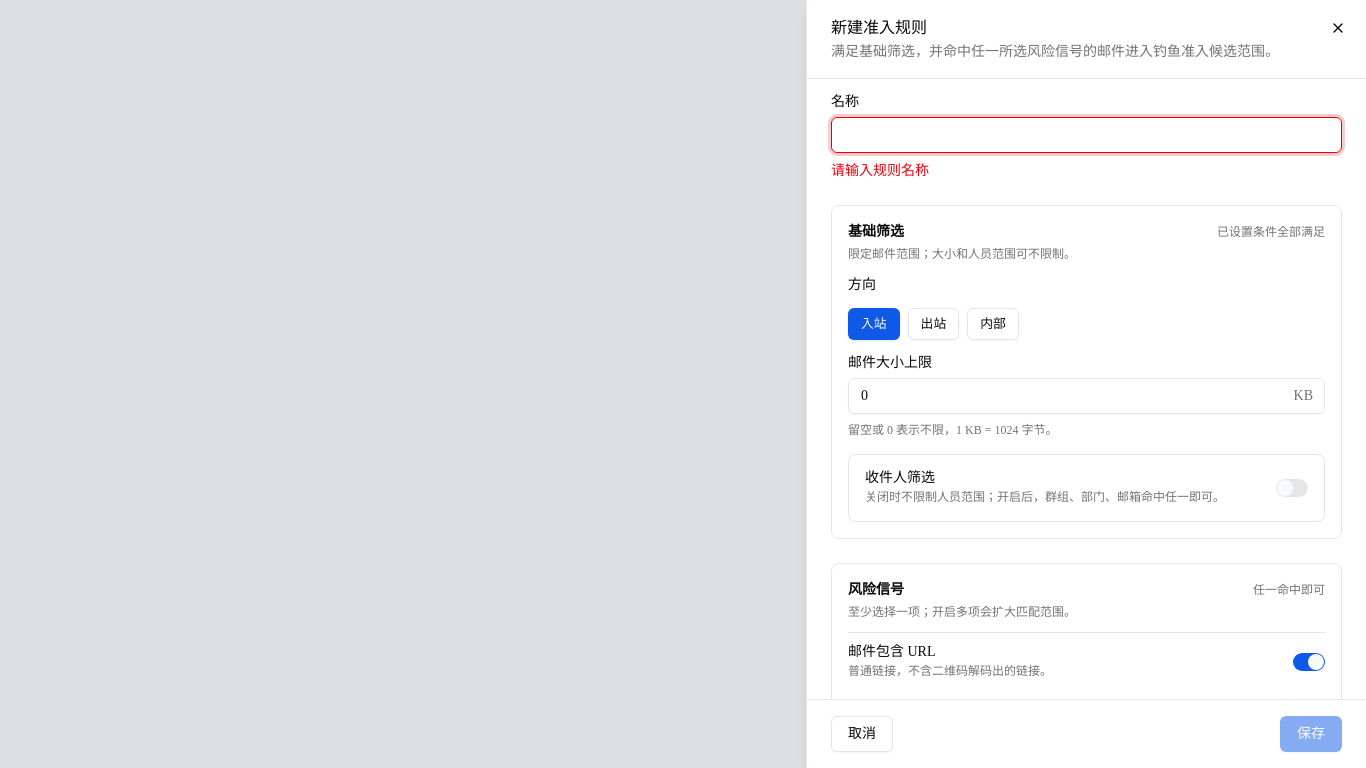
AdmissionRuleSheet directional scopes › switches outbound rules to sender scope while mixed directions expose both sides
This screenshot has width=1366, height=768.
Click the switch with test id "rule-recipient-filter": (1292, 488) [1276,479,1308,497]
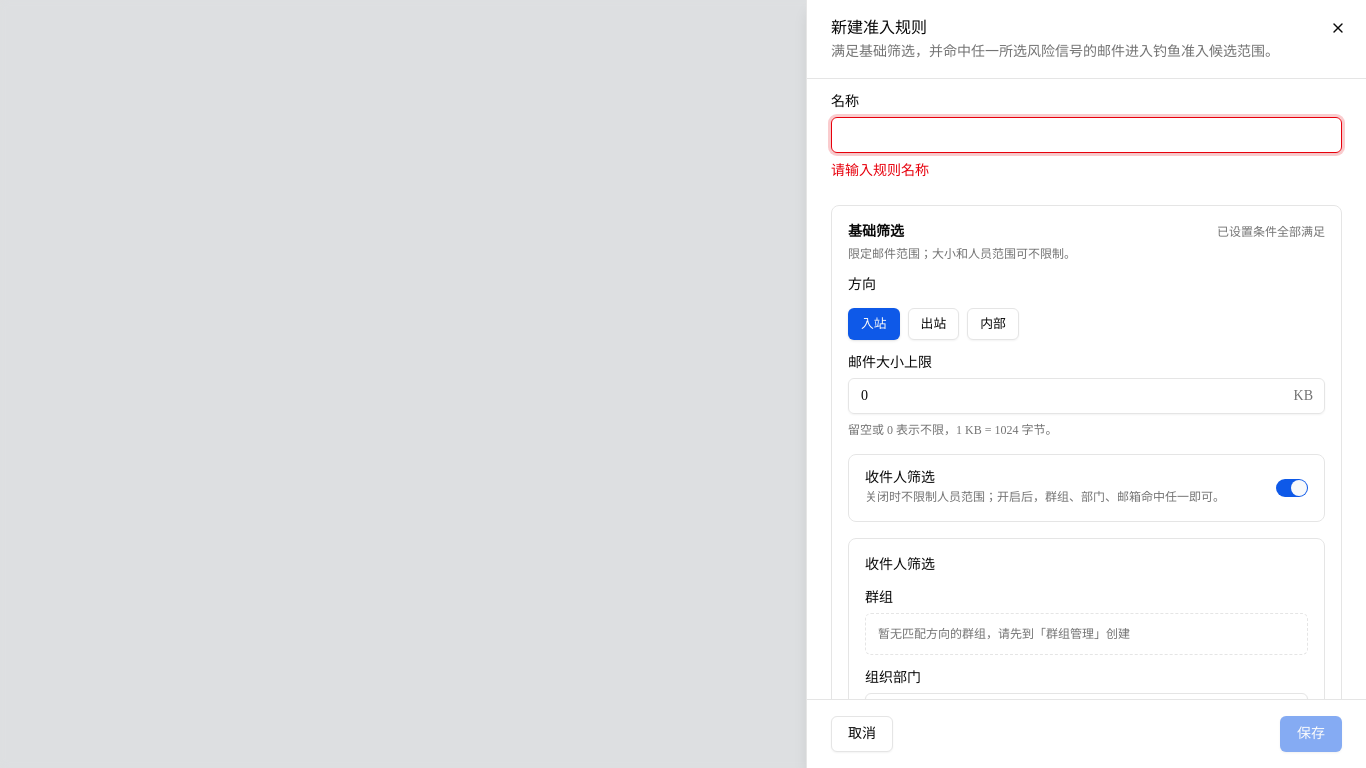
Expected: the element with test id "rule-scope-recipient" is shown, [848,538,1325,699]
Click the button with test id "rule-direction-outbound": (933, 324) [908,308,959,340]
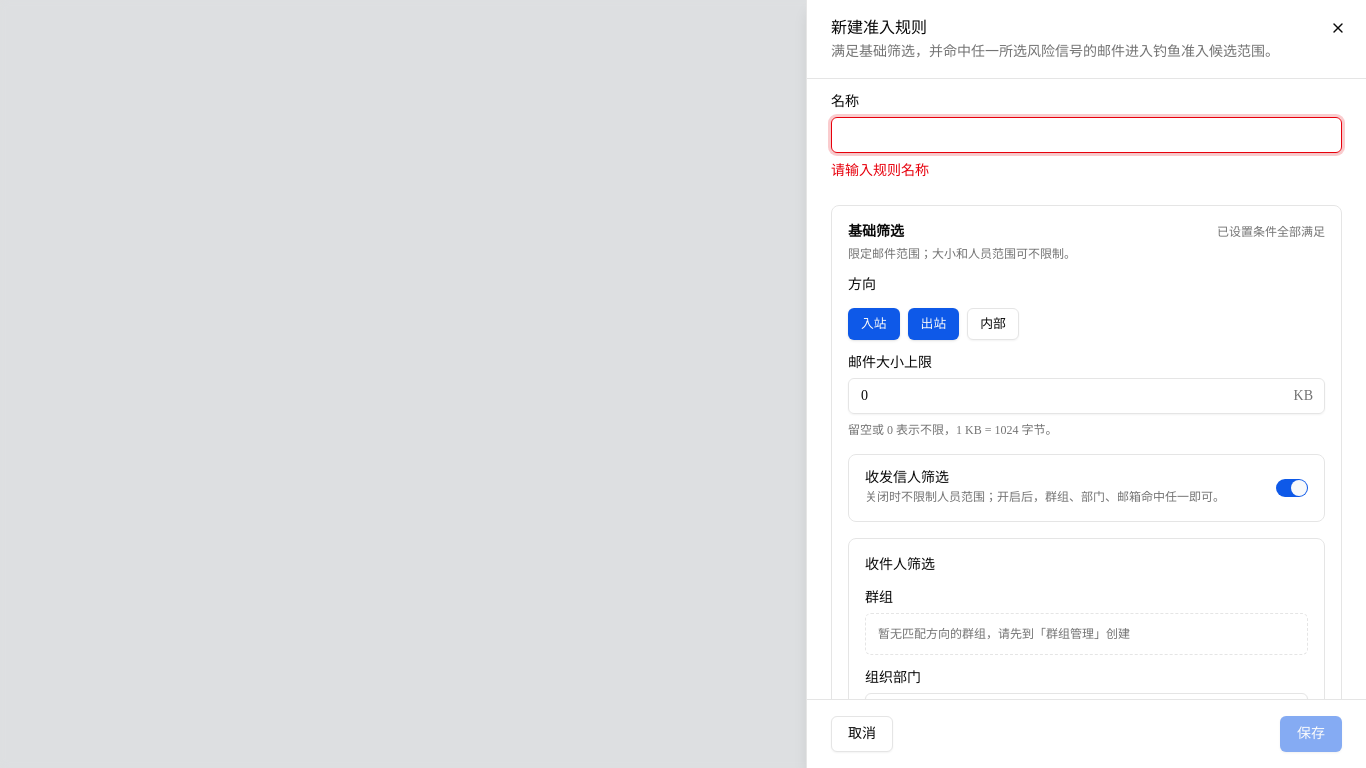
Expected: the element with test id "rule-scope-recipient" is shown, [848,538,1325,699]
Click the button with test id "rule-direction-inbound": (874, 324) [848,308,900,340]
(page scrolled)
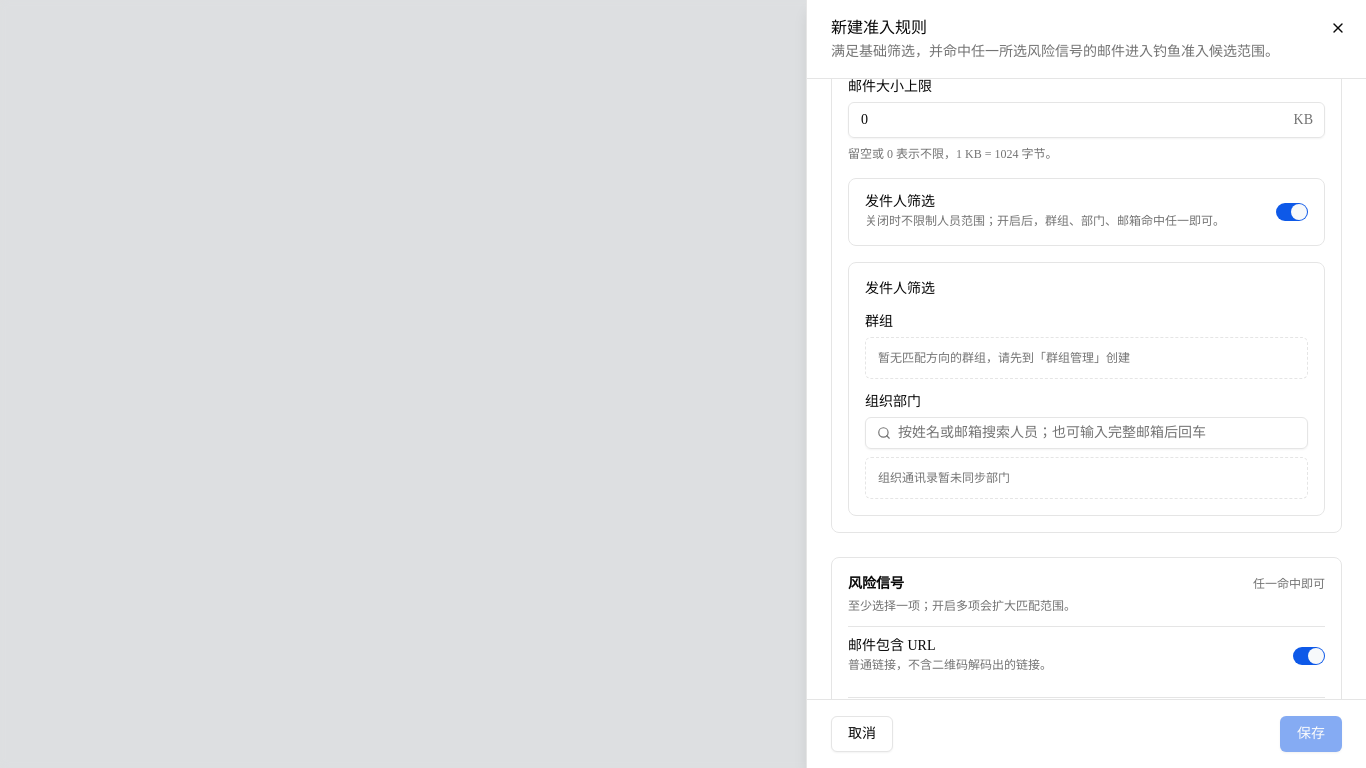
Expected: the element with test id "rule-scope-sender" is shown, [848,262,1325,516]
